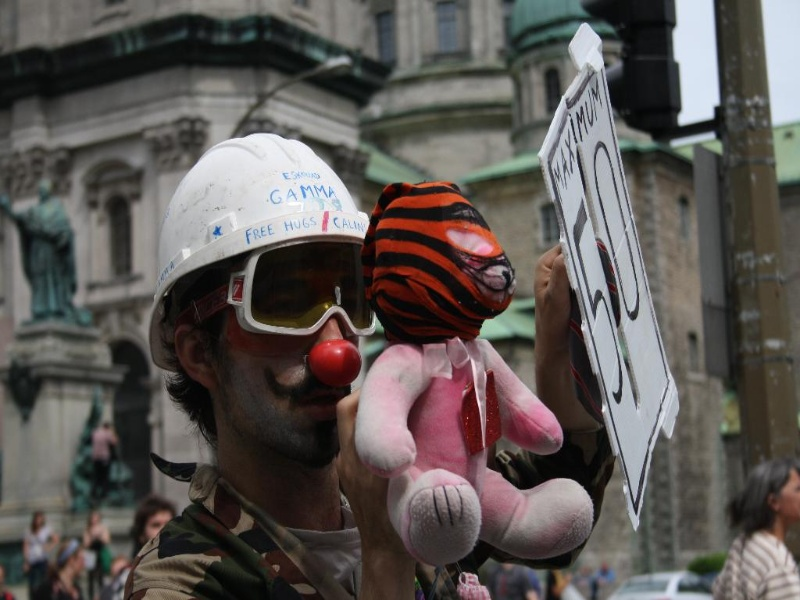Baret: (155, 131, 370, 268)
